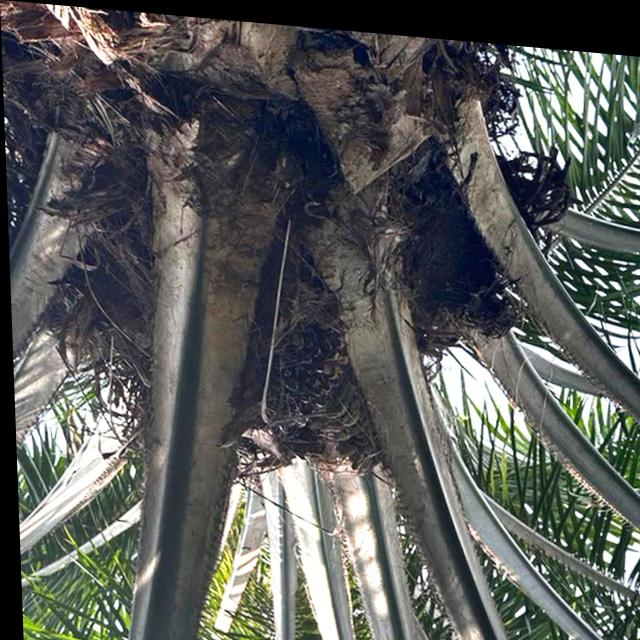almost: (239, 276, 363, 440)
